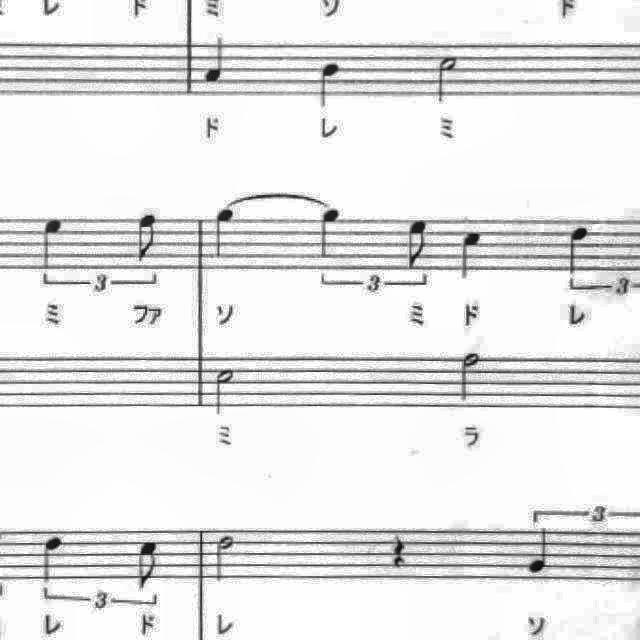Eighth-note: (401, 213, 439, 274), (132, 533, 168, 595), (130, 208, 166, 268)
Half-note: (430, 48, 468, 110), (452, 347, 488, 408), (207, 360, 243, 420), (208, 530, 240, 590)
Quarter-note: (36, 212, 72, 280), (452, 222, 490, 286), (311, 203, 349, 265), (205, 205, 243, 267), (560, 220, 596, 280), (34, 529, 70, 587), (199, 31, 235, 89), (312, 56, 348, 112), (521, 524, 557, 580)
Quarter-rest: (382, 528, 410, 576)
